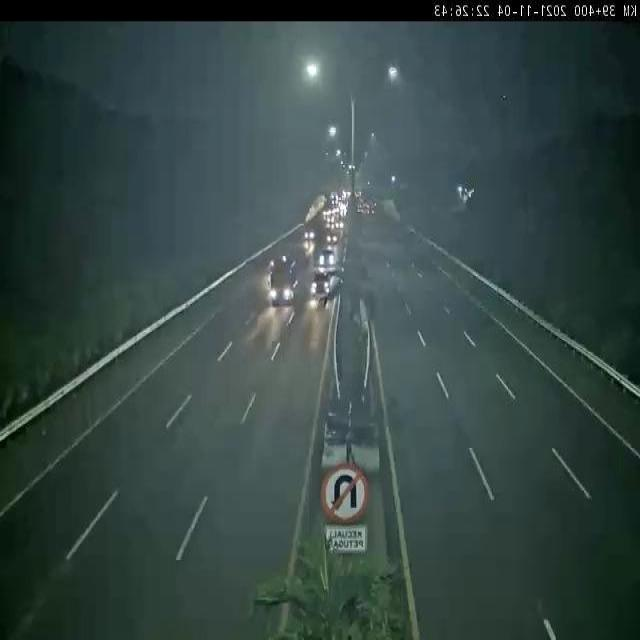Car: (310, 269, 332, 298), (319, 249, 336, 267)
